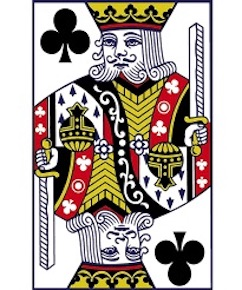KingOfClubs: (27, 1, 216, 290)
